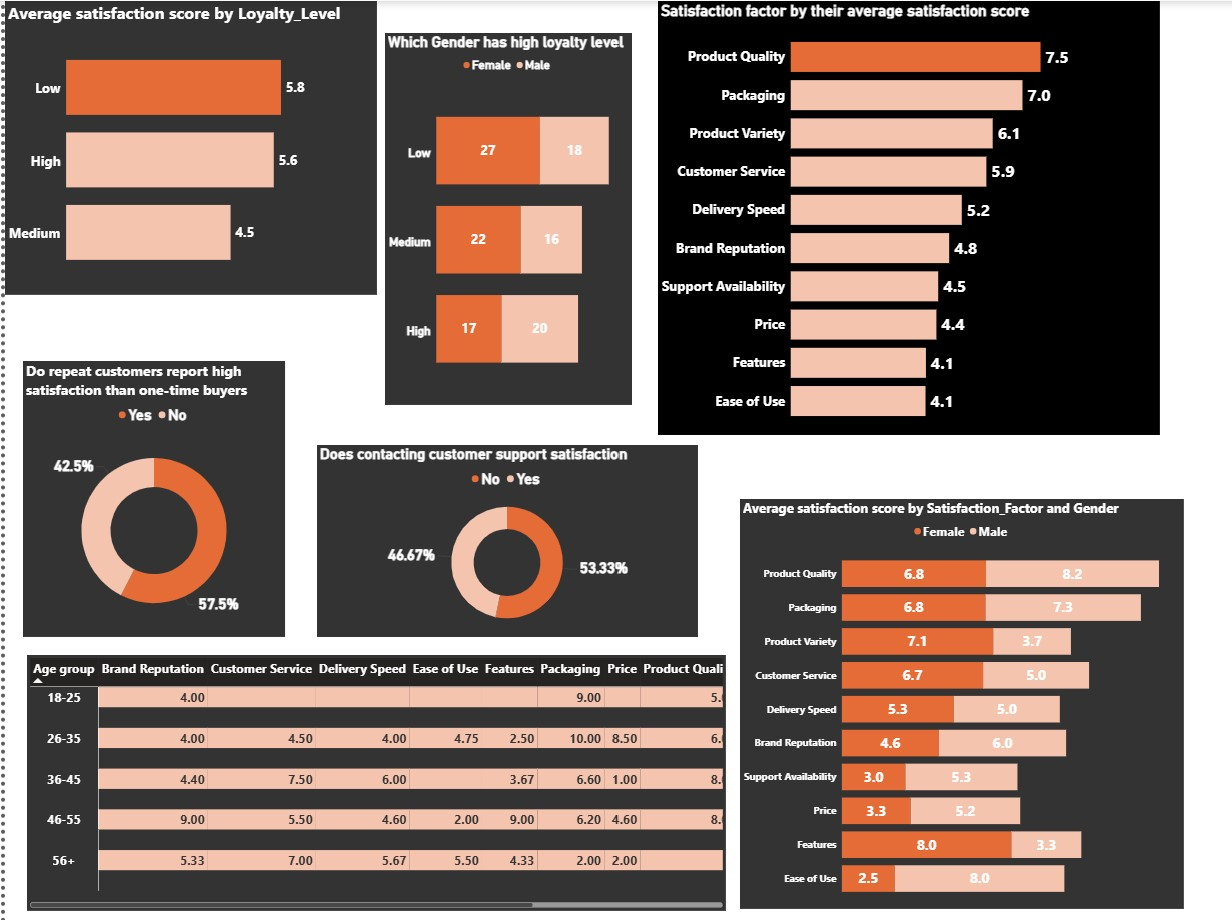

The dashboard page shown, as its layout file describes it:
{"tool":"powerbi","page":{"name":"Insights","canvas":[2000,1500],"ordinal":1},"visuals":[{"type":"donutChart","title":"Do repeat customers report high satisfaction than one-time buyers","fields":{"Y":["CountNonNull(DataDNA Dataset Challenge - Cus.Customer_ID)"],"Category":["DataDNA Dataset Challenge - Cus.Purchase_History"]},"box":[29.2,583.2,424.4,447.1],"z":0},{"type":"barChart","fields":{"Y":["DataDNA Dataset Challenge - Cus.Average satisfaction score"],"Category":["DataDNA Dataset Challenge - Cus.Loyalty_Level"]},"box":[0,0,602.6,476.2],"z":1000},{"type":"donutChart","title":"Does contacting customer support satisfaction","fields":{"Y":["CountNonNull(DataDNA Dataset Challenge - Cus.Customer_ID)"],"Category":["DataDNA Dataset Challenge - Cus.Support_Contacted"]},"box":[505.4,719.2,615.6,311],"z":2000},{"type":"barChart","title":"Satisfaction factor by their average satisfaction score","fields":{"Y":["DataDNA Dataset Challenge - Cus.Average satisfaction score"],"Category":["DataDNA Dataset Challenge - Cus.Satisfaction_Factor"]},"box":[1056.2,0,813.2,703],"z":3000},{"type":"barChart","title":"Which Gender has high loyalty level","fields":{"Category":["DataDNA Dataset Challenge - Cus.Loyalty_Level"],"Series":["DataDNA Dataset Challenge - Cus.Gender"],"Y":["CountNonNull(DataDNA Dataset Challenge - Cus.Customer_ID)"]},"box":[615.6,51.8,398.5,602.6],"z":4000},{"type":"barChart","fields":{"Y":["DataDNA Dataset Challenge - Cus.Average satisfaction score"],"Category":["DataDNA Dataset Challenge - Cus.Satisfaction_Factor"],"Series":["DataDNA Dataset Challenge - Cus.Gender"]},"box":[1189,806.7,719.2,664.1],"z":5000},{"type":"pivotTable","fields":{"Rows":["DataDNA Dataset Challenge - Cus.Age group"],"Columns":["DataDNA Dataset Challenge - Cus.Satisfaction_Factor"],"Values":["DataDNA Dataset Challenge - Cus.Average satisfaction score"]},"box":[35.6,1059.4,1130.7,414.7],"z":6000}]}

Visuals, with their boxes in screenshot pixels (x1, y1, x2, y2), scaled from the page's 2000x1500 canvas onto the 1232x920 screenshot:
"Do repeat customers report high satisfaction than one-time buyers" donutChart: 18 358 279 632
barChart - DataDNA Dataset Challenge - Cus.Average satisfaction score x DataDNA Dataset Challenge - Cus.Loyalty_Level: 0 0 371 292
"Does contacting customer support satisfaction" donutChart: 311 441 691 632
"Satisfaction factor by their average satisfaction score" barChart: 651 0 1152 431
"Which Gender has high loyalty level" barChart: 379 32 625 401
barChart - DataDNA Dataset Challenge - Cus.Average satisfaction score x DataDNA Dataset Challenge - Cus.Satisfaction_Factor: 732 495 1175 902
pivotTable - DataDNA Dataset Challenge - Cus.Age group x DataDNA Dataset Challenge - Cus.Satisfaction_Factor: 22 650 718 904
